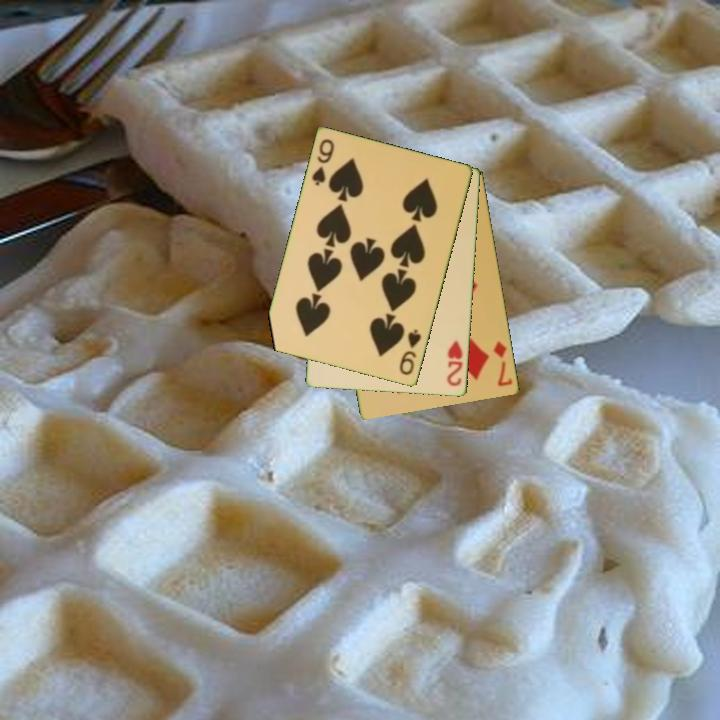2h: (444, 337, 466, 390)
7d: (490, 337, 516, 390)
9s: (308, 136, 337, 189), (396, 326, 424, 378)
